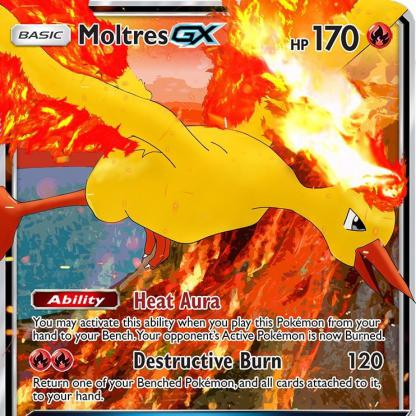Moltres: (23, 21, 416, 416)
